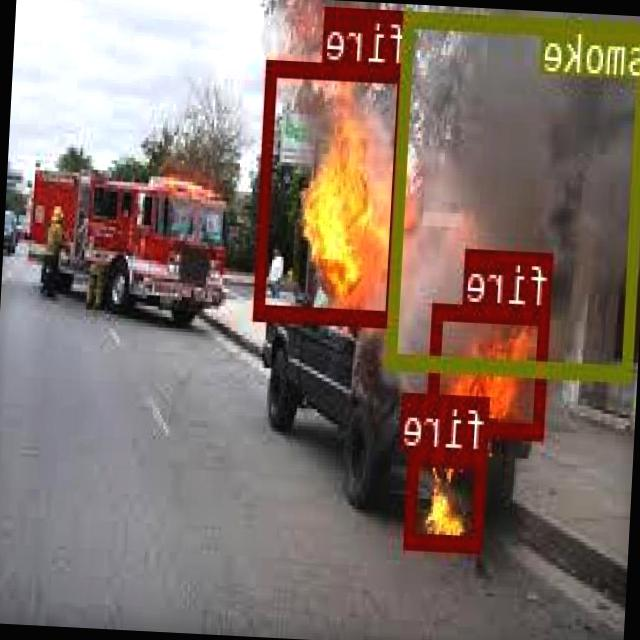fire: (257, 58, 412, 324), (429, 300, 552, 436), (408, 446, 489, 551)
smoke: (387, 8, 640, 380)
